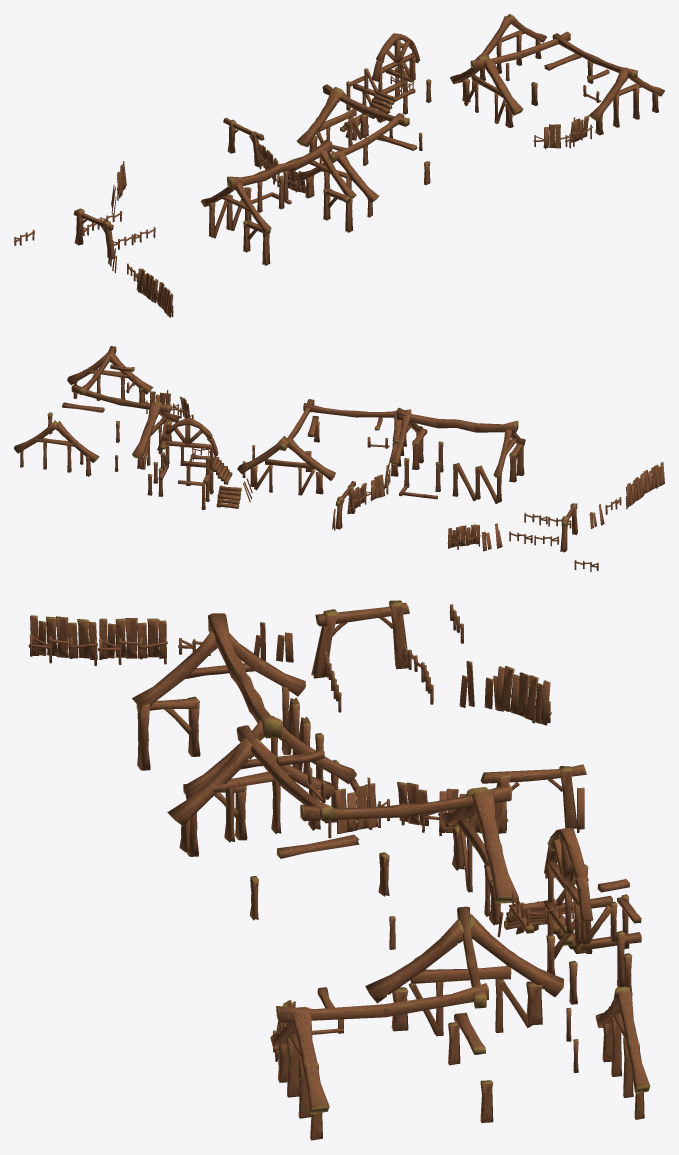
The model's file is WoodBlockFour.FBX.
The picture shows the model from 3 angles, top to bottom: view 1: azimuth 30°, elevation 25°; view 2: azimuth 150°, elevation 25°; view 3: azimuth 270°, elevation 25°; orthographic projection. The views are drawn at different scales.
Parts seen in each view (by area): view 1: WoodMaterialBlock4; view 2: WoodMaterialBlock4; view 3: WoodMaterialBlock4.
Part boxes in pixels (box(x1,y1,x2,y2)): WoodMaterialBlock4: box(14, 14, 664, 317); WoodMaterialBlock4: box(14, 346, 664, 571); WoodMaterialBlock4: box(28, 600, 650, 1140).
Bounding box in the file's own units: 164 × 23 × 78.02.
